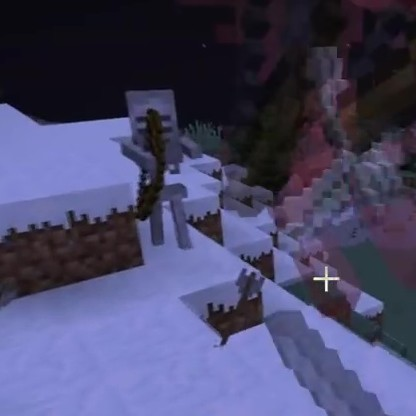skeleton: (116, 87, 203, 252)
